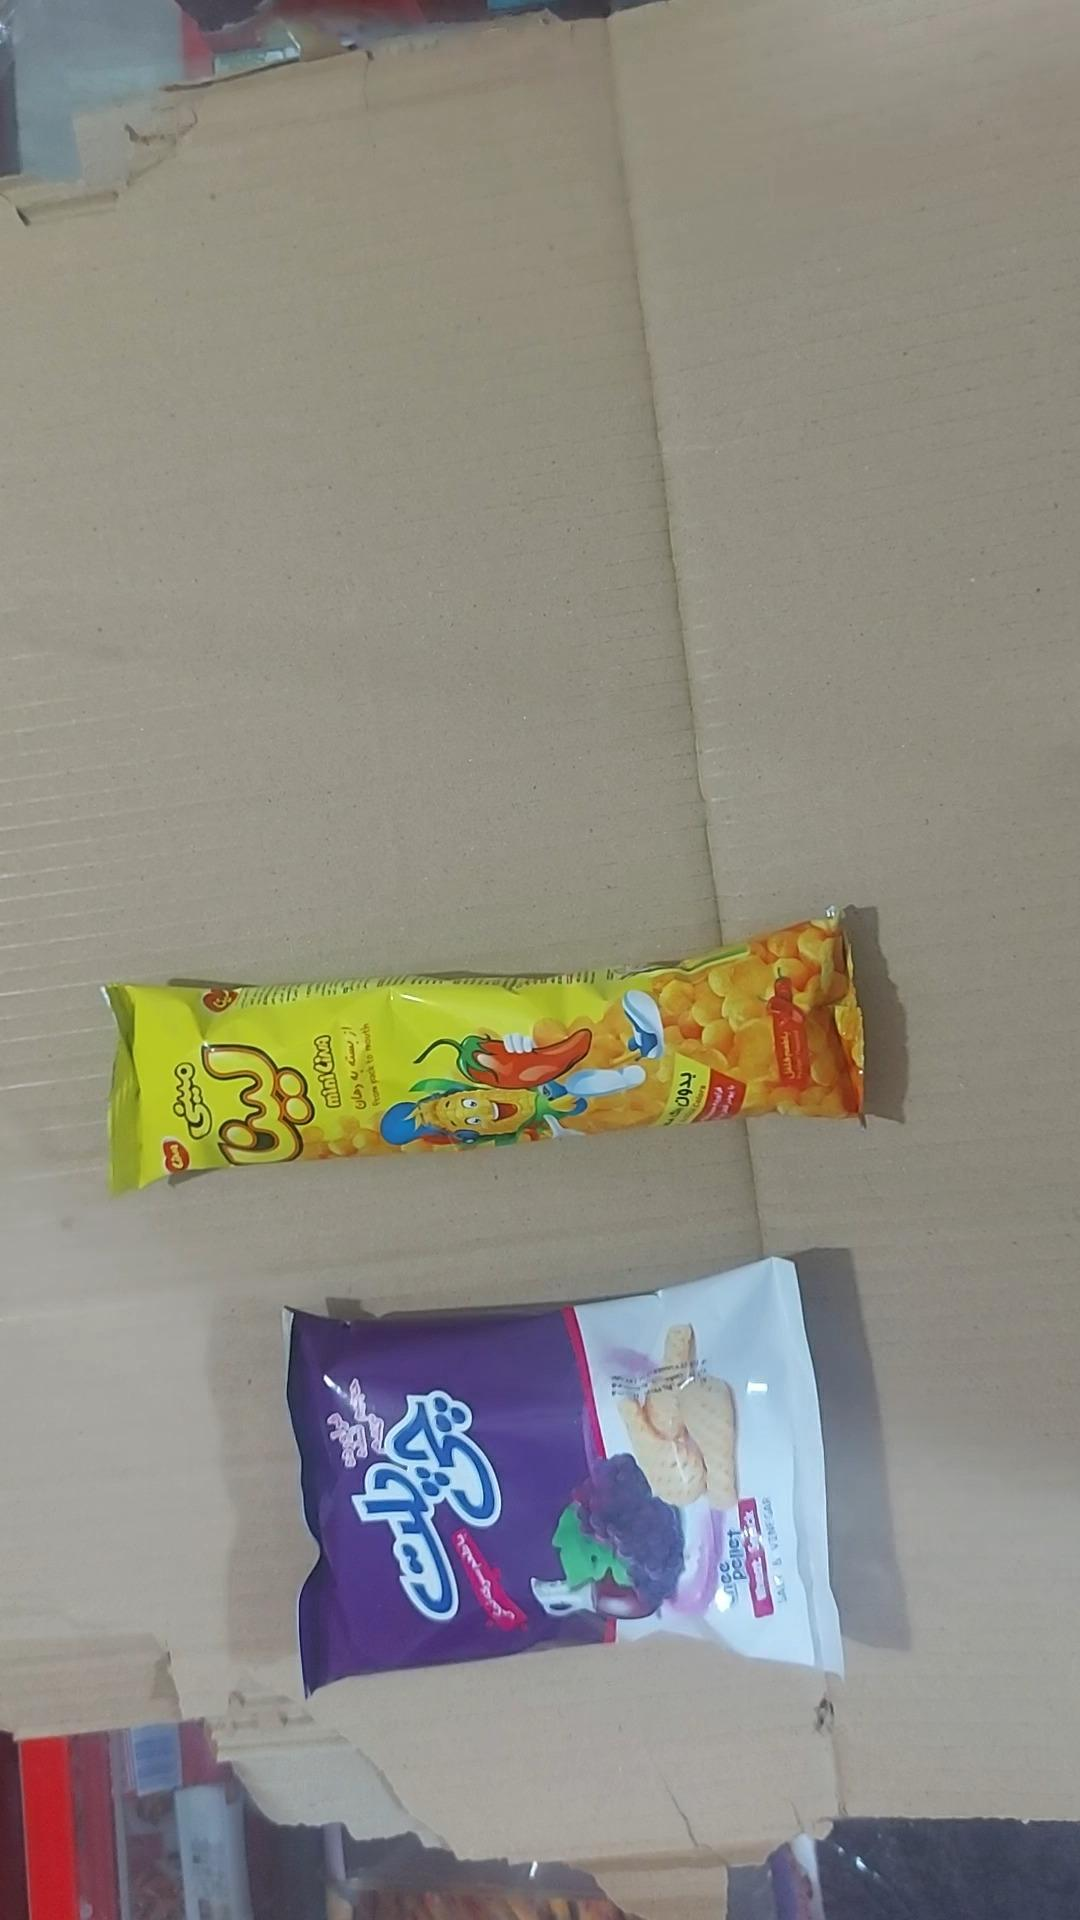Chee pellet vinegar: (285, 1261, 841, 1695)
Mini Lina: (103, 913, 862, 1192)
